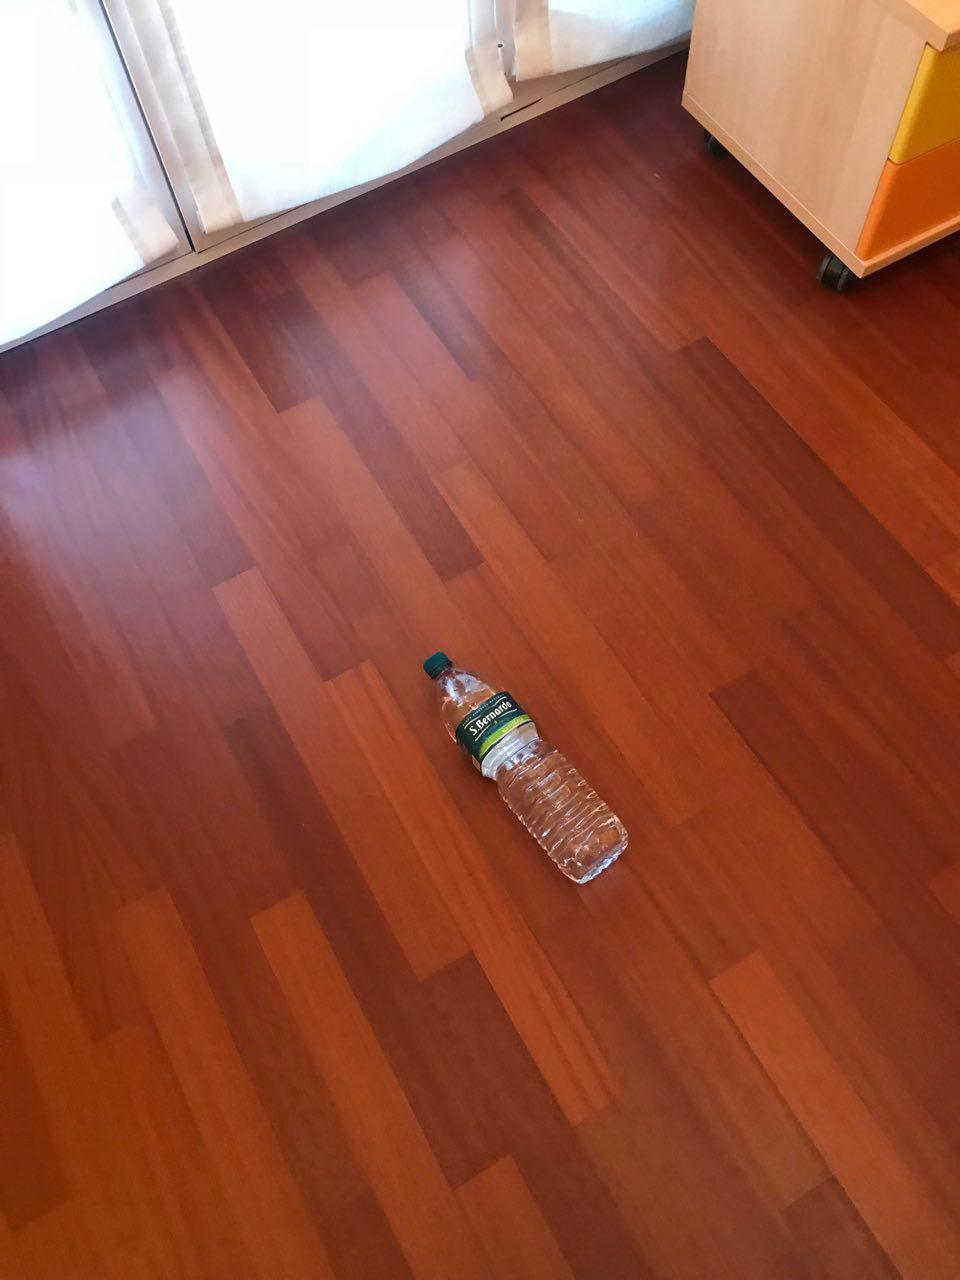san_bernardo: (422, 651, 629, 884)
